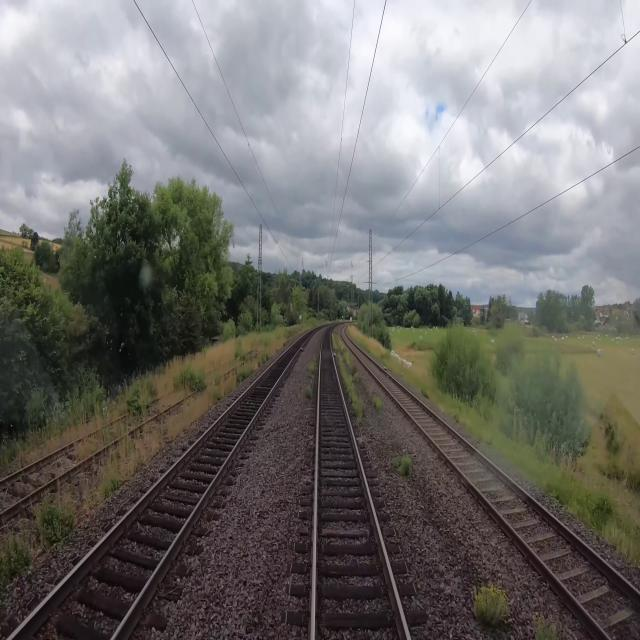Plant: (81, 330, 294, 508), (331, 333, 363, 424), (34, 493, 78, 550), (0, 532, 32, 592), (470, 585, 510, 630), (117, 391, 158, 425), (532, 611, 562, 639), (173, 370, 208, 393), (74, 431, 101, 457), (391, 453, 412, 477), (308, 352, 318, 374), (371, 395, 384, 409), (234, 348, 246, 361), (304, 386, 312, 399), (212, 372, 219, 385)
